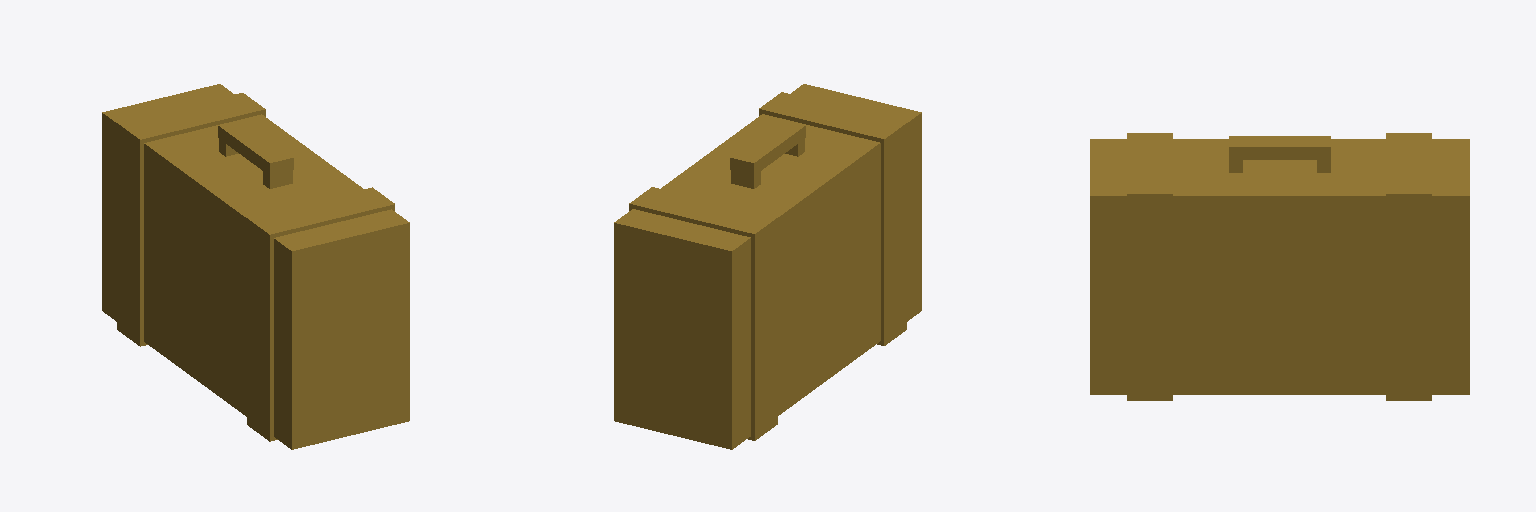
The picture shows the model from 3 angles: view 1: azimuth 30°, elevation 25°; view 2: azimuth 150°, elevation 25°; view 3: azimuth 270°, elevation 25°; orthographic projection.
Visible parts, largest first — view 1: Cube, Cube.1, Cube.2, Cube.3; view 2: Cube, Cube.1, Cube.2, Cube.3; view 3: Cube, Cube.2, Cube.1, Cube.3.
Boxes of the visible parts, x1=… form: Cube: x1=102, y1=84, x2=409, y2=449; Cube.1: x1=117, y1=93, x2=265, y2=346; Cube.2: x1=247, y1=187, x2=394, y2=441; Cube.3: x1=218, y1=120, x2=293, y2=175; Cube: x1=614, y1=84, x2=921, y2=449; Cube.1: x1=629, y1=187, x2=777, y2=440; Cube.2: x1=759, y1=92, x2=906, y2=345; Cube.3: x1=730, y1=120, x2=805, y2=175; Cube: x1=1090, y1=139, x2=1469, y2=394; Cube.2: x1=1127, y1=133, x2=1172, y2=400; Cube.1: x1=1386, y1=133, x2=1431, y2=400; Cube.3: x1=1229, y1=136, x2=1330, y2=159.
Bounding box in the file's own units: 13.24 × 23.03 × 34.67.
Materials: 1 (1 with a texture image).